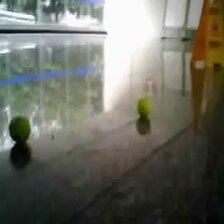tennis: (8, 115, 32, 141), (135, 97, 152, 116)
